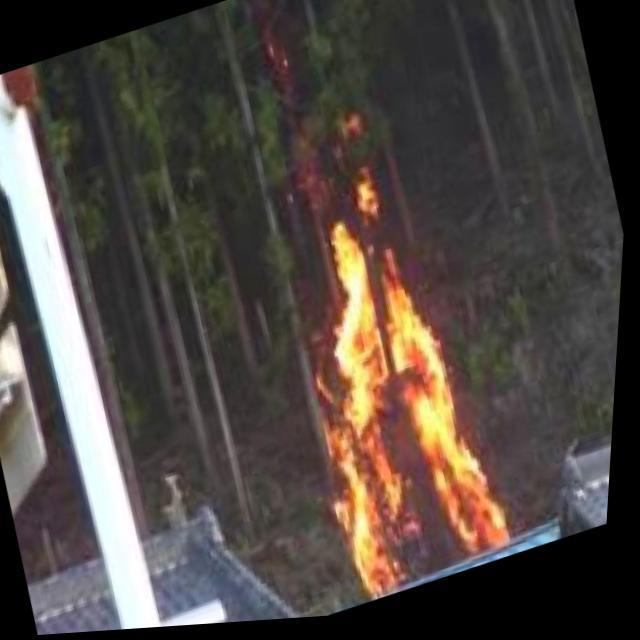fire: (243, 146, 545, 606)
